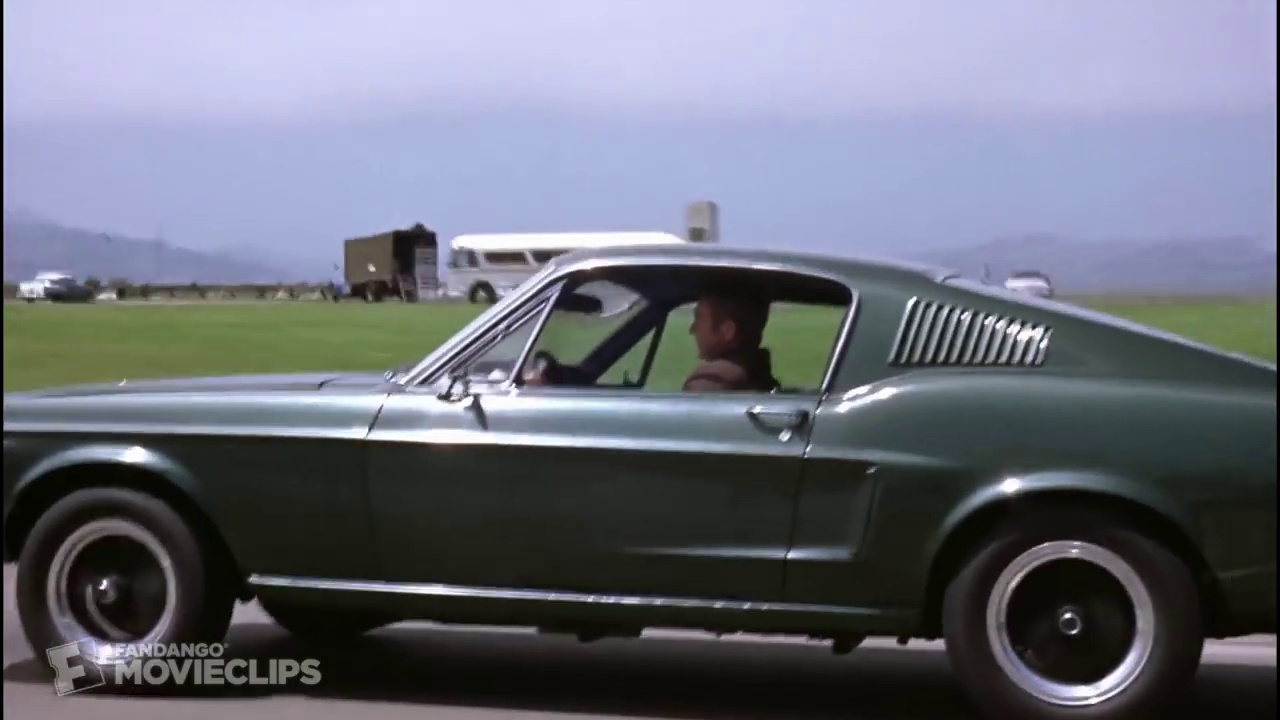bus: (442, 226, 700, 311)
car: (1, 231, 1269, 720), (991, 264, 1065, 313), (14, 262, 86, 308)
person: (666, 268, 790, 401)
truck: (317, 216, 447, 307)
